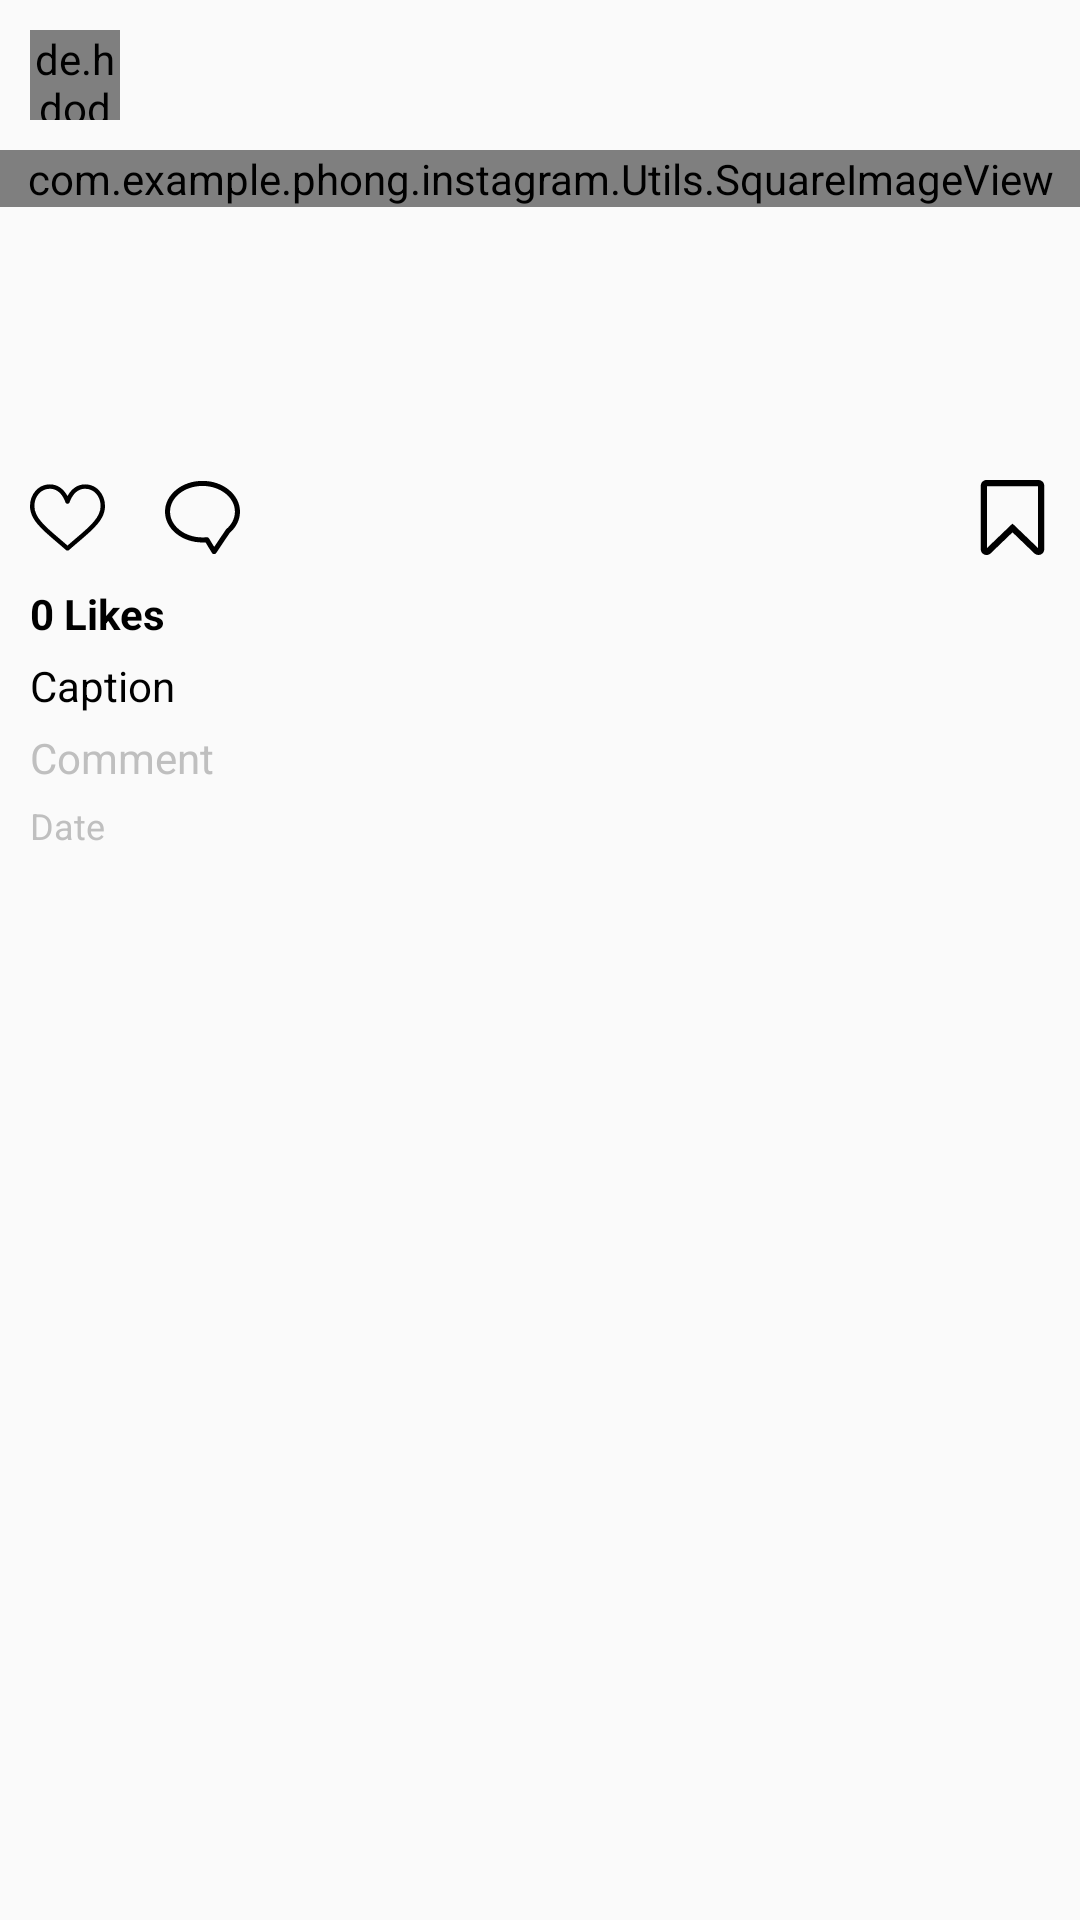

Where to tap for icons on this 1080*1920 app screen, as (x=x, y=y):
bookmark: (x=1012, y=517)
chat: (x=202, y=517)
